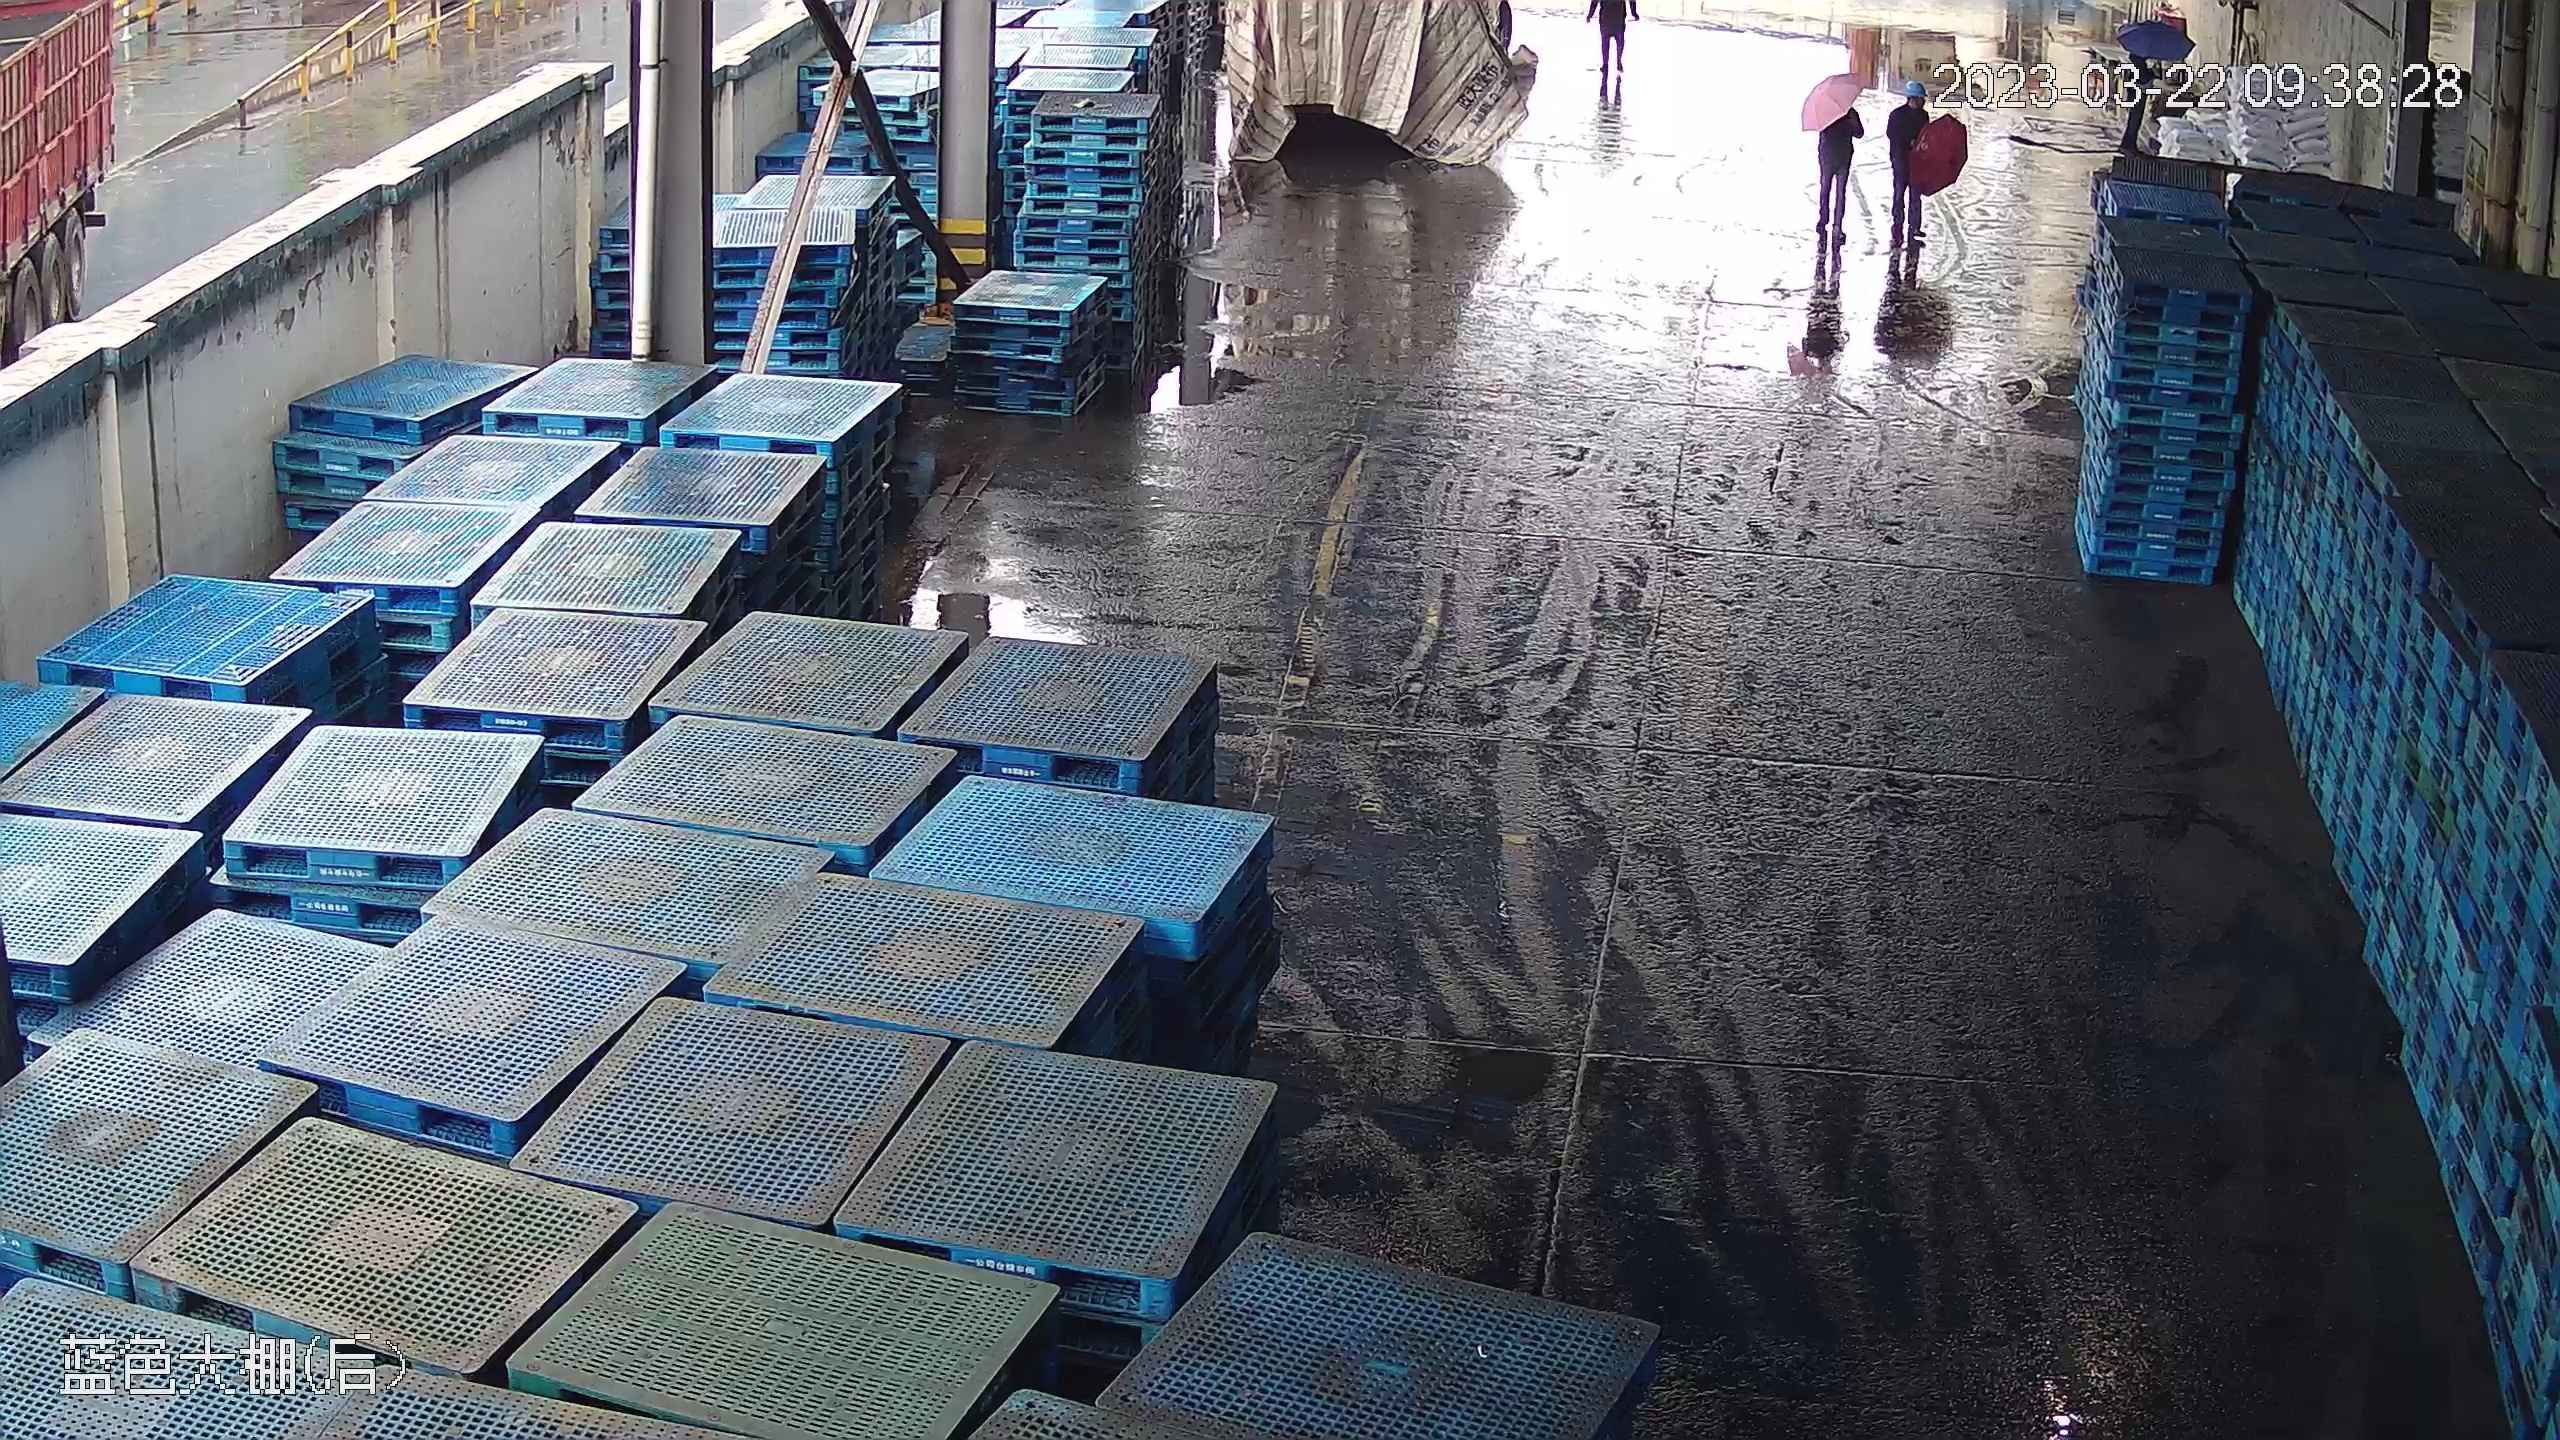head: (1889, 71, 1942, 135)
helmet: (1896, 73, 1929, 102)
people: (1889, 56, 1966, 312), (1806, 87, 1869, 270), (1588, 1, 1636, 151)
